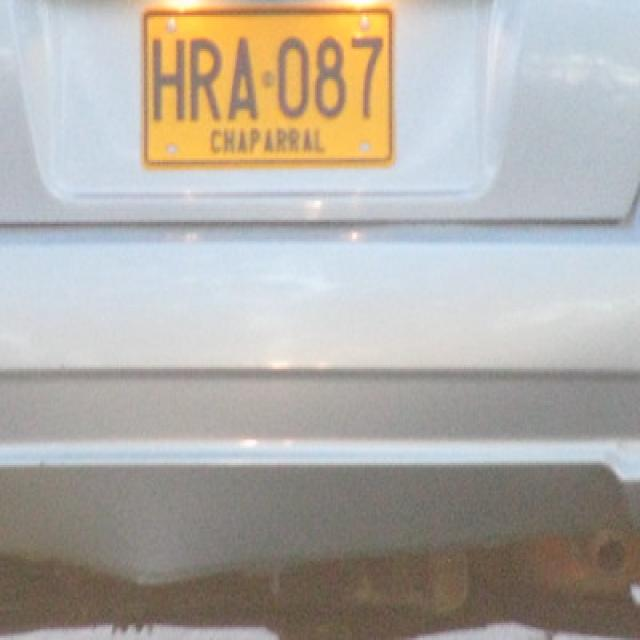placa_carro: (139, 5, 395, 172)
